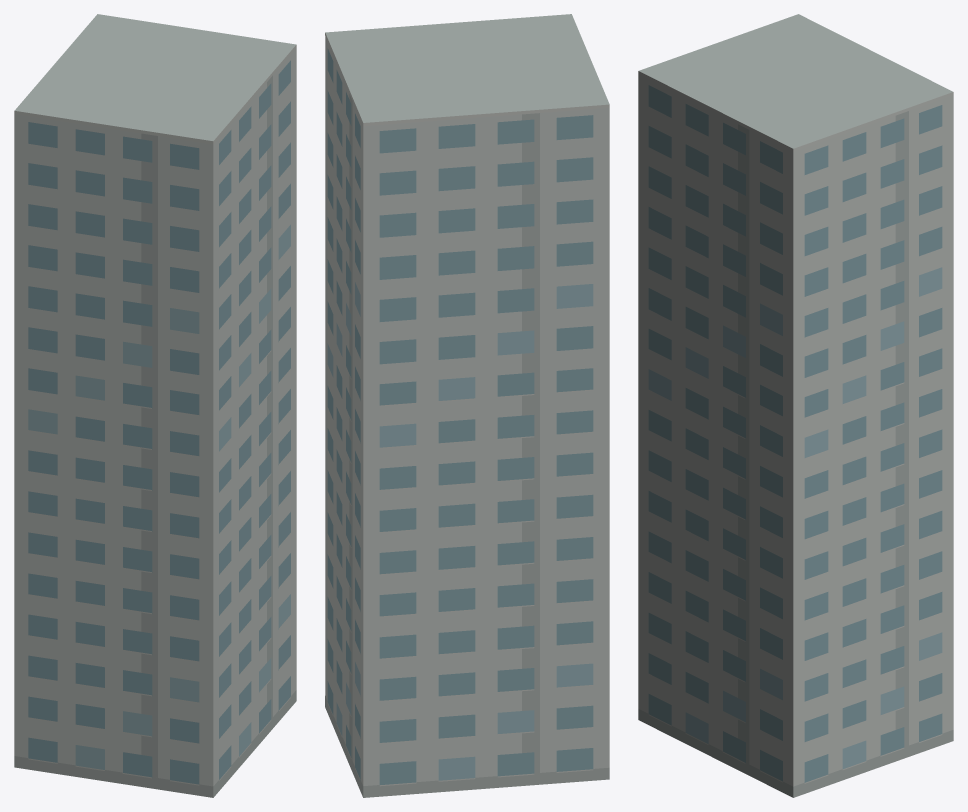
File: residential-4f901542-e5e0-46a7-8f92-35712e1af3cd.glb
3 views of the same model, side by side, from view 1: azimuth 30°, elevation 25°; view 2: azimuth 150°, elevation 25°; view 3: azimuth 270°, elevation 25° (orthographic). The views are drawn at different scales.
Parts seen in each view (by area): view 1: residential-4f901542-e5e0-46a7-8f92-35712e1af3cd.tmp; view 2: residential-4f901542-e5e0-46a7-8f92-35712e1af3cd.tmp; view 3: residential-4f901542-e5e0-46a7-8f92-35712e1af3cd.tmp.
Boxes of the visible parts, x1,y1,x2,y2 form: residential-4f901542-e5e0-46a7-8f92-35712e1af3cd.tmp: (14, 14, 296, 797); residential-4f901542-e5e0-46a7-8f92-35712e1af3cd.tmp: (325, 14, 609, 797); residential-4f901542-e5e0-46a7-8f92-35712e1af3cd.tmp: (638, 14, 953, 797).
Size of the model in its own units: 21.83 by 49 by 21.56.
